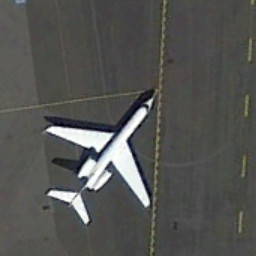Airplane: (37, 88, 161, 227)
